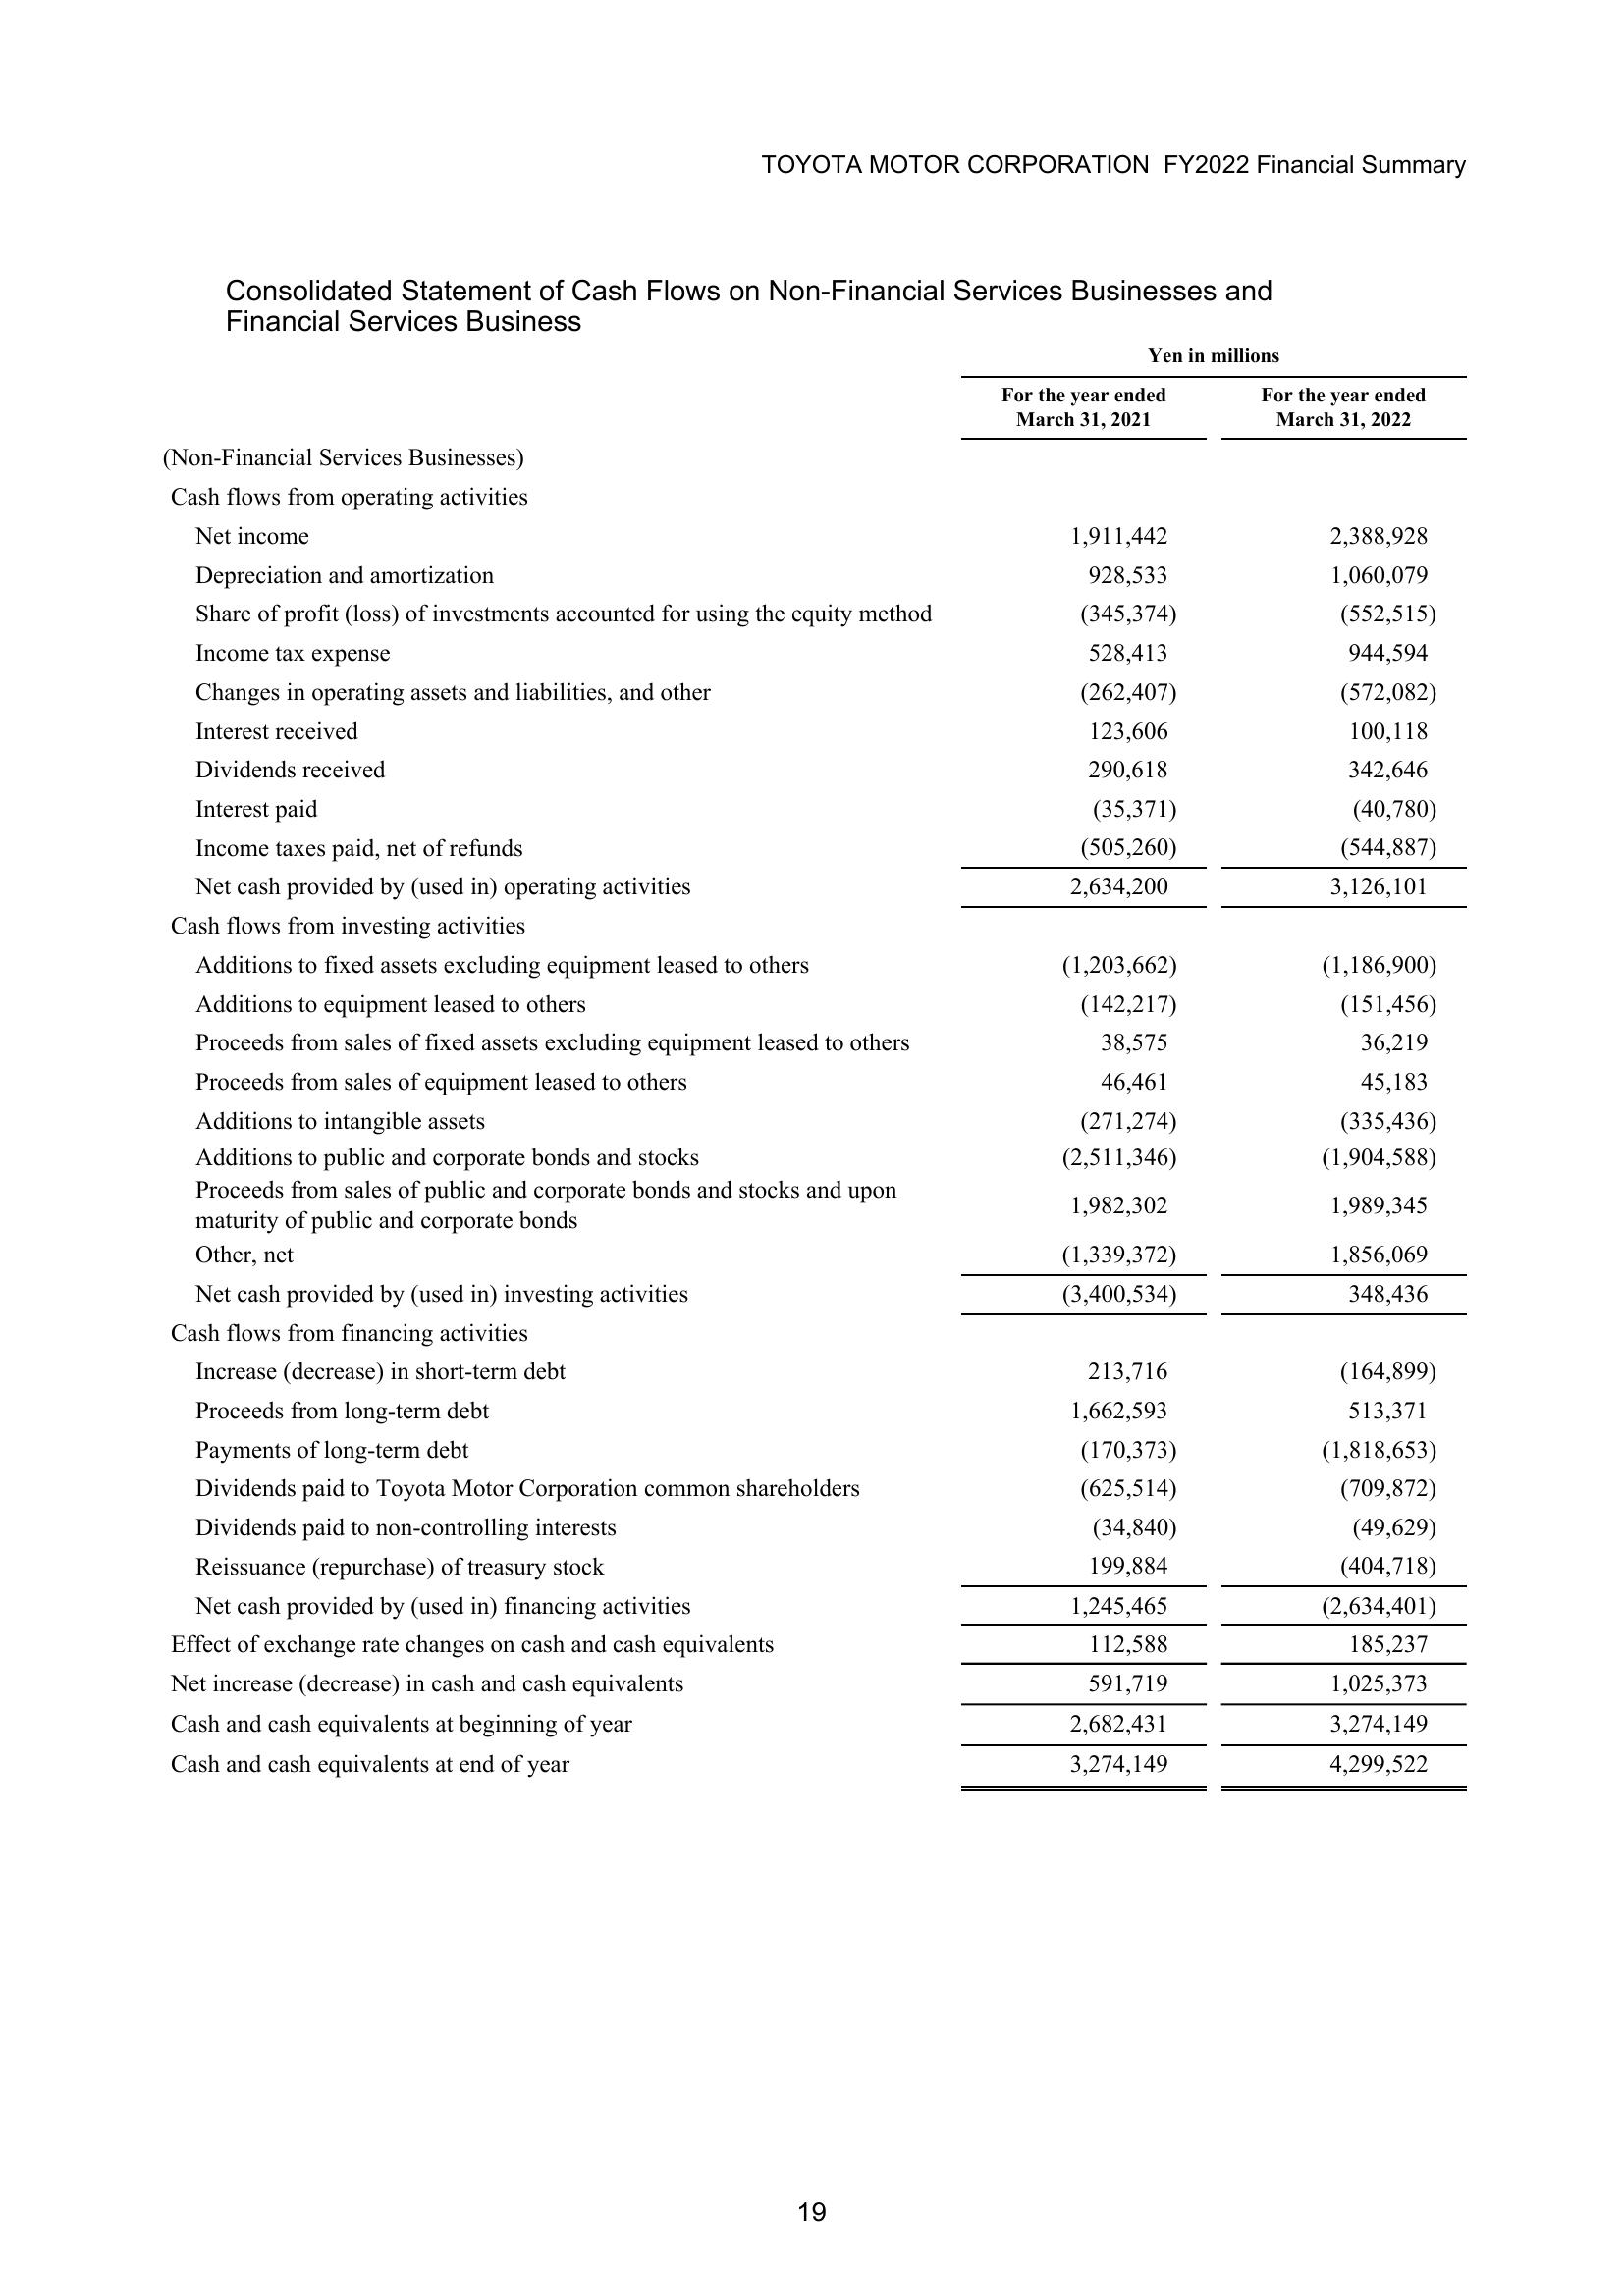Footer: (0, 2175, 1624, 2296)
Header: (0, 0, 1624, 223)
Table: (37, 344, 1501, 1834)
